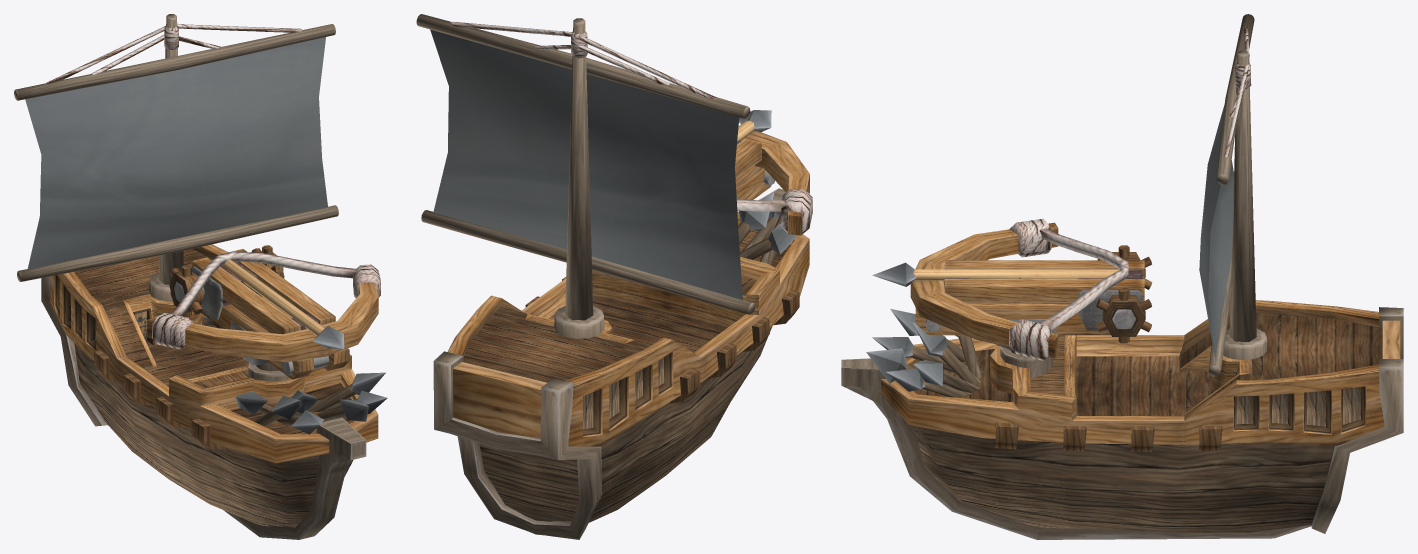
Rendered from BallistaShip.fbx.
3 renders of one model, left to right at view 1: azimuth 30°, elevation 25°; view 2: azimuth 150°, elevation 25°; view 3: azimuth 270°, elevation 25°, orthographic. The views are drawn at different scales.
Parts seen in each view (by area): view 1: BallistaShip, BallistaPitch; view 2: BallistaShip, BallistaPitch; view 3: BallistaShip, BallistaPitch.
Part boxes in pixels (<box>): BallistaShip: <box>14,14,387,539</box>; BallistaPitch: <box>147,245,380,379</box>; BallistaShip: <box>416,14,809,539</box>; BallistaPitch: <box>735,110,812,235</box>; BallistaShip: <box>841,14,1403,539</box>; BallistaPitch: <box>872,218,1152,360</box>.
Size of the model in its own units: 519 by 726 by 766.
